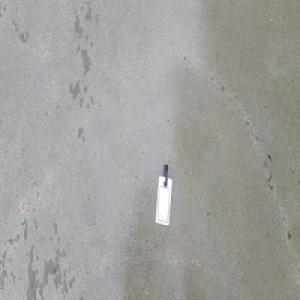LuggageTag: (154, 163, 173, 226)
